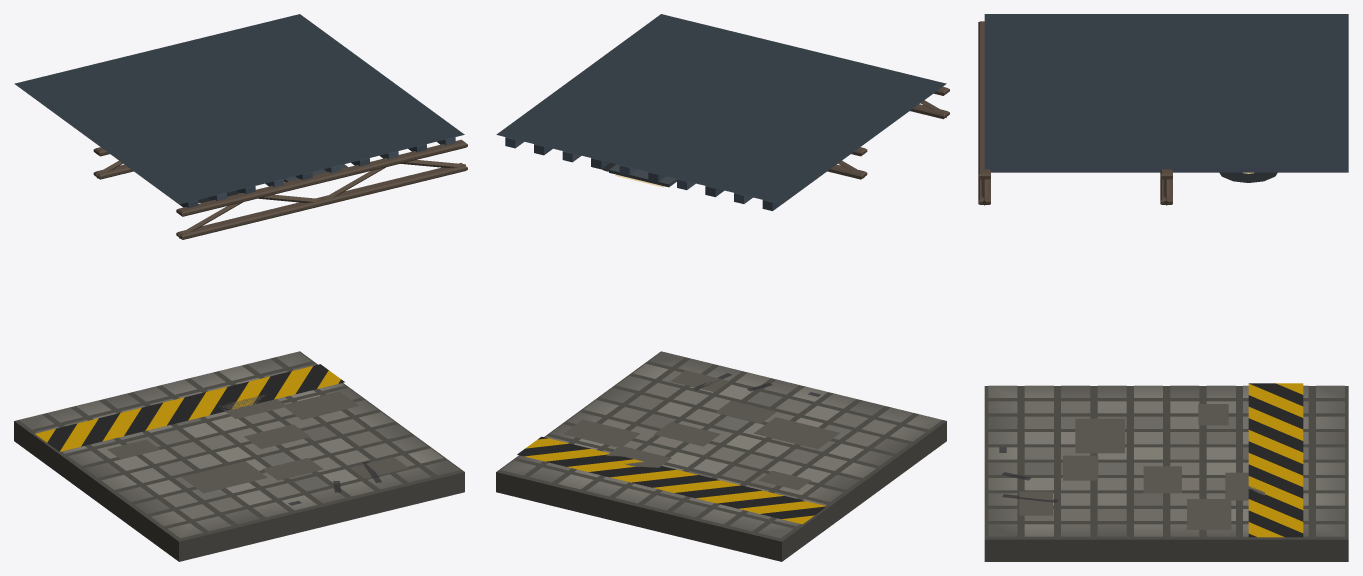
The model's file is floor_a.fbx.
3 views of the same model, side by side, from view 1: azimuth 30°, elevation 25°; view 2: azimuth 150°, elevation 25°; view 3: azimuth 270°, elevation 25° (orthographic). The views are drawn at different scales.
Parts seen in each view (by area): view 1: floor_a, Ceiling; view 2: floor_a, Ceiling; view 3: floor_a, Ceiling.
Boxes of the visible parts, x1,y1,x2,y2 form: floor_a: [14, 351, 464, 561]; Ceiling: [14, 14, 467, 239]; floor_a: [496, 351, 946, 561]; Ceiling: [496, 14, 949, 210]; floor_a: [984, 383, 1348, 561]; Ceiling: [978, 14, 1348, 205].
Size of the model in its own units: 4.02 by 4.78 by 4.07.
